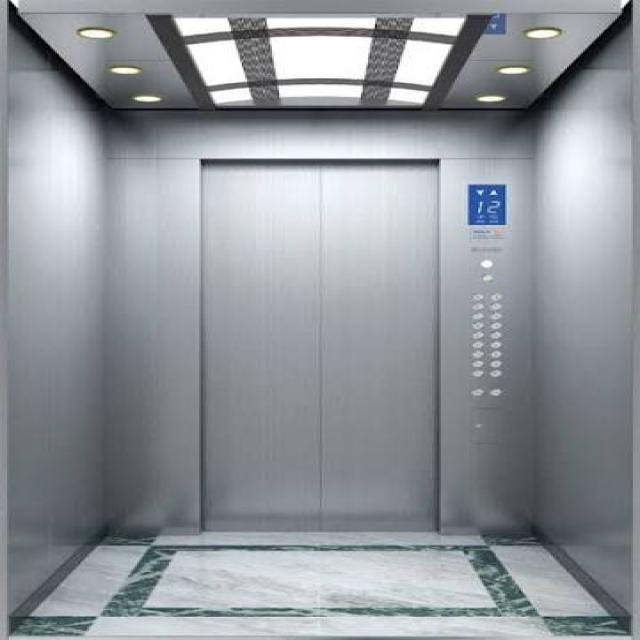elevator: (176, 129, 546, 549)
